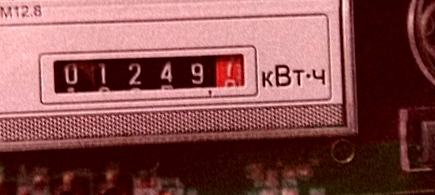0: (59, 60, 79, 88)
1: (91, 59, 108, 87)
2: (121, 61, 141, 89)
4: (154, 58, 173, 85)
7: (218, 52, 236, 79)
9: (184, 60, 204, 88)
screen: (30, 26, 262, 126)
